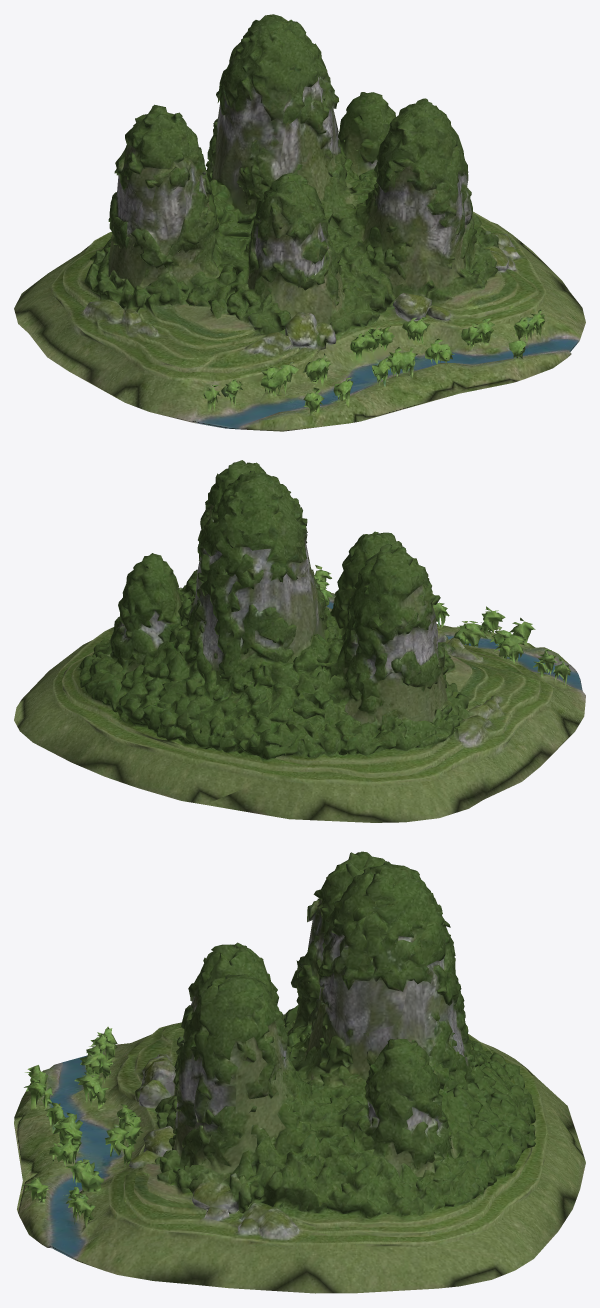
Rendered from av_karst_far.glb.
3 renders of one model, top to bottom at view 1: azimuth 30°, elevation 25°; view 2: azimuth 150°, elevation 25°; view 3: azimuth 270°, elevation 25°, orthographic. The views are drawn at different scales.
Visible parts, largest first — view 1: av_karst; view 2: av_karst; view 3: av_karst.
Boxes of the visible parts, x1,y1,x2,y2 form: av_karst: [14, 14, 585, 431]; av_karst: [14, 460, 585, 822]; av_karst: [14, 851, 585, 1293].
Size of the model in its own units: 1.9 by 1.01 by 1.74.
1 material, 1 textured.
